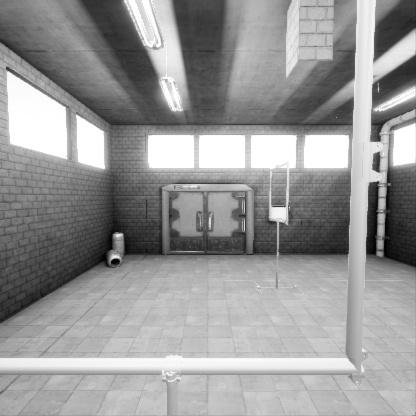gate: (5, 83, 382, 416), (269, 194, 289, 257)
